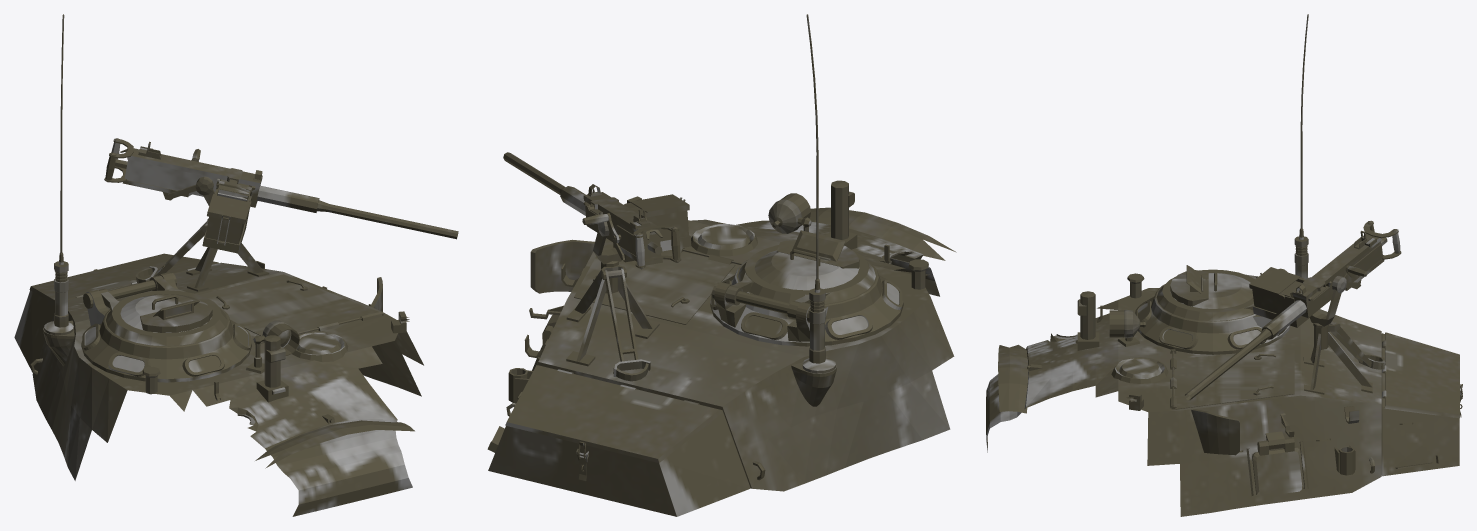
Rendered from chaffee_turret_m0.obj.
3 views of the same model, side by side, from view 1: azimuth 30°, elevation 25°; view 2: azimuth 150°, elevation 25°; view 3: azimuth 270°, elevation 25° (orthographic). The views are drawn at different scales.
Visible parts, largest first — view 1: chaffee_turret_m0; view 2: chaffee_turret_m0; view 3: chaffee_turret_m0.
Boxes of the visible parts, x1,y1,x2,y2 form: chaffee_turret_m0: (14,14,458,516); chaffee_turret_m0: (487,14,956,516); chaffee_turret_m0: (986,14,1462,516).
Size of the model in its own units: 2.07 by 2.05 by 2.37.
1 material, 1 textured.
